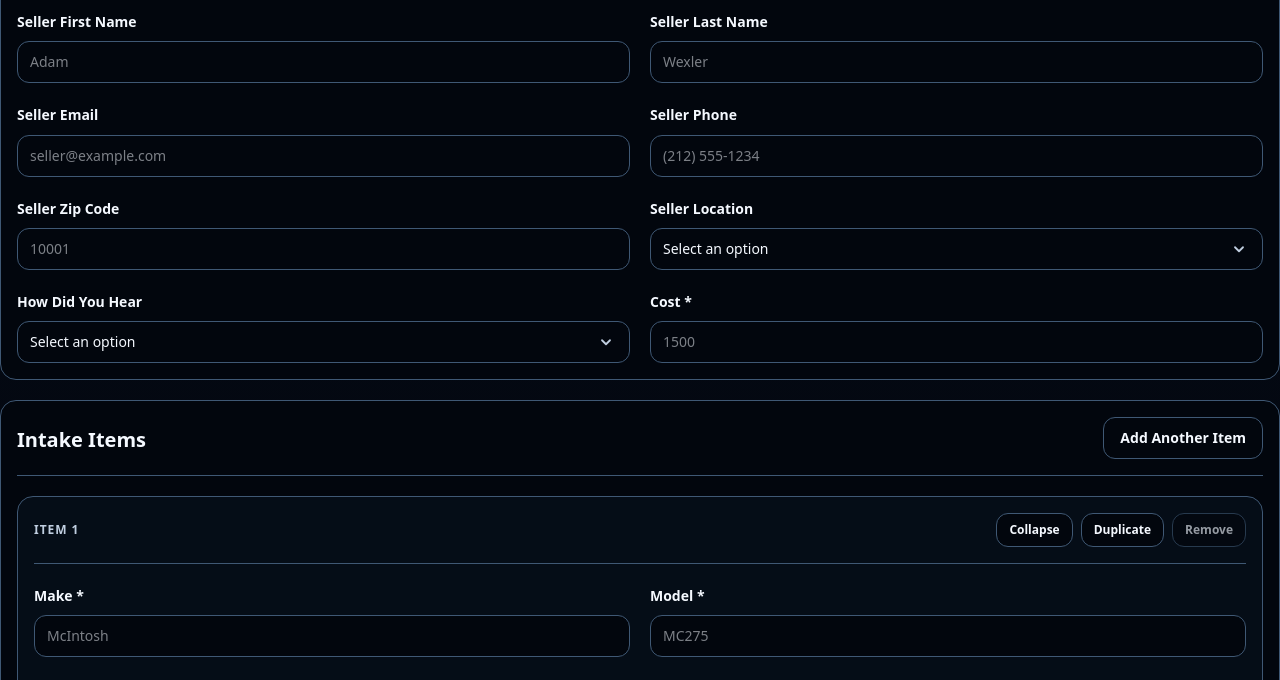
it: AirtableEmbeddedForm grouped intake › duplicates item fields into a new card
In the field labelled "Make *": [332, 636] box [34,615,630,657], type "Accuphase"
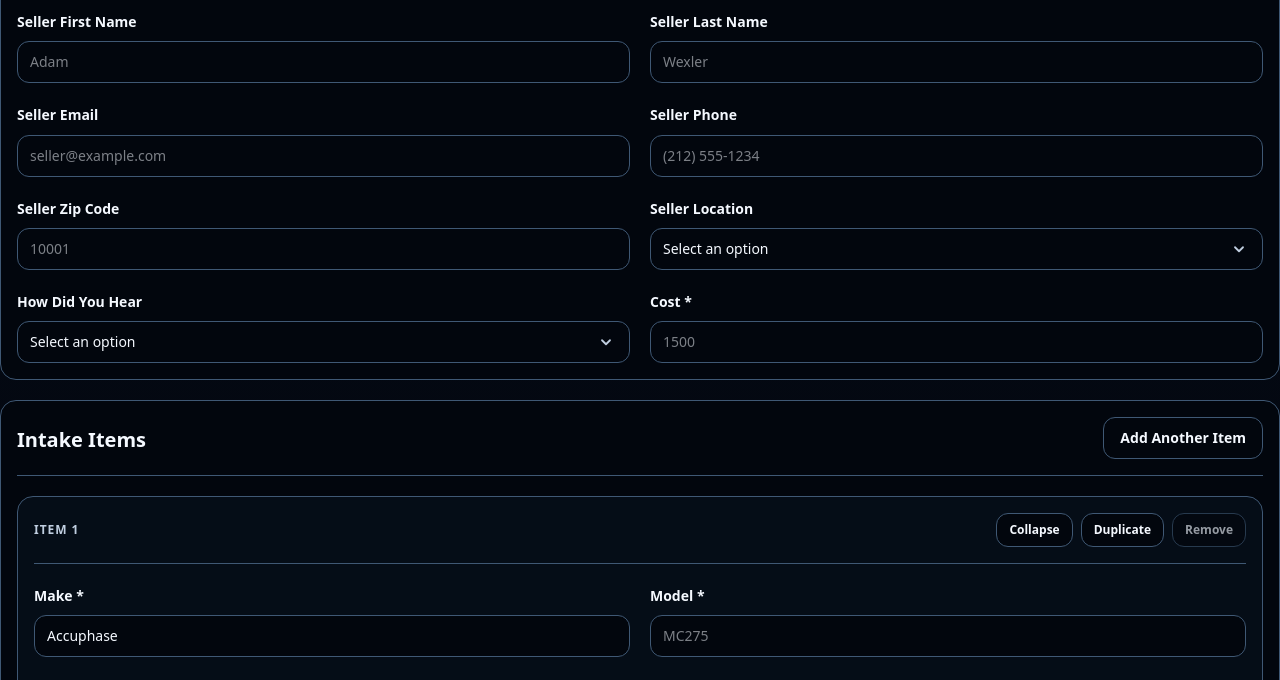
In the field labelled "Model *": [948, 636] box [650,615,1246,657], type "E-202"
(page scrolled)
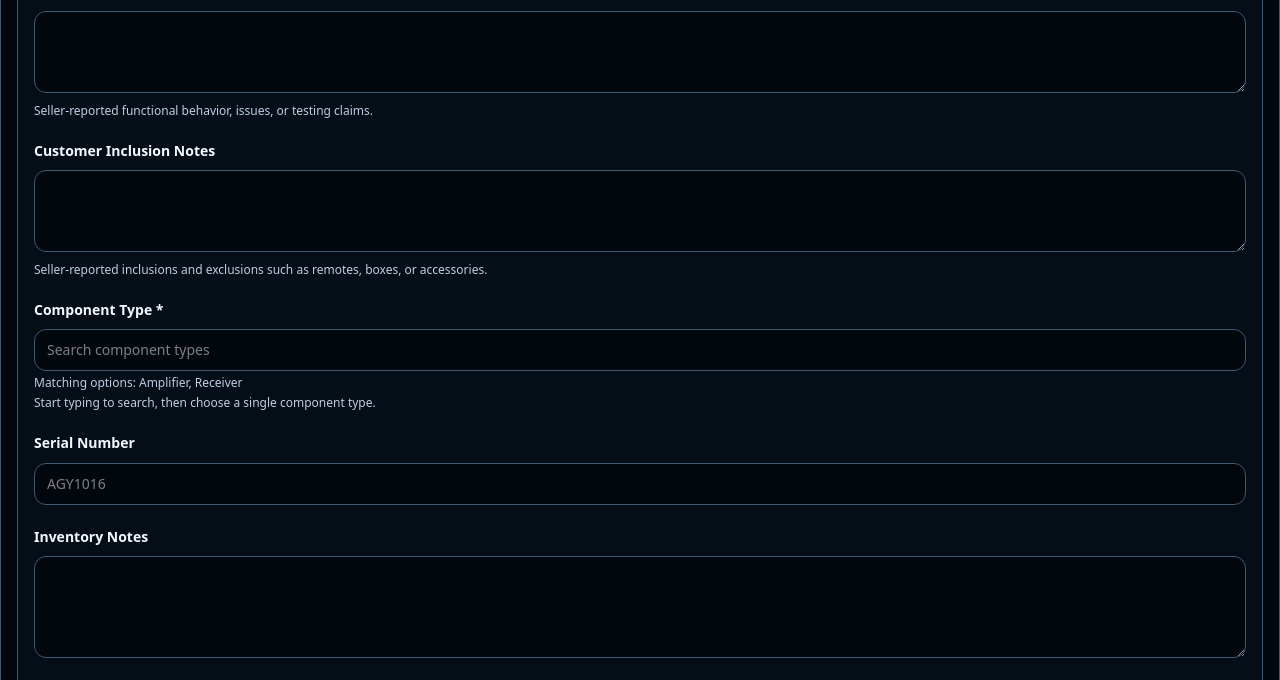
In the field with placeholder "Search component types": [640, 350] box [34,329,1246,371], type "Amplifier"
(page scrolled)
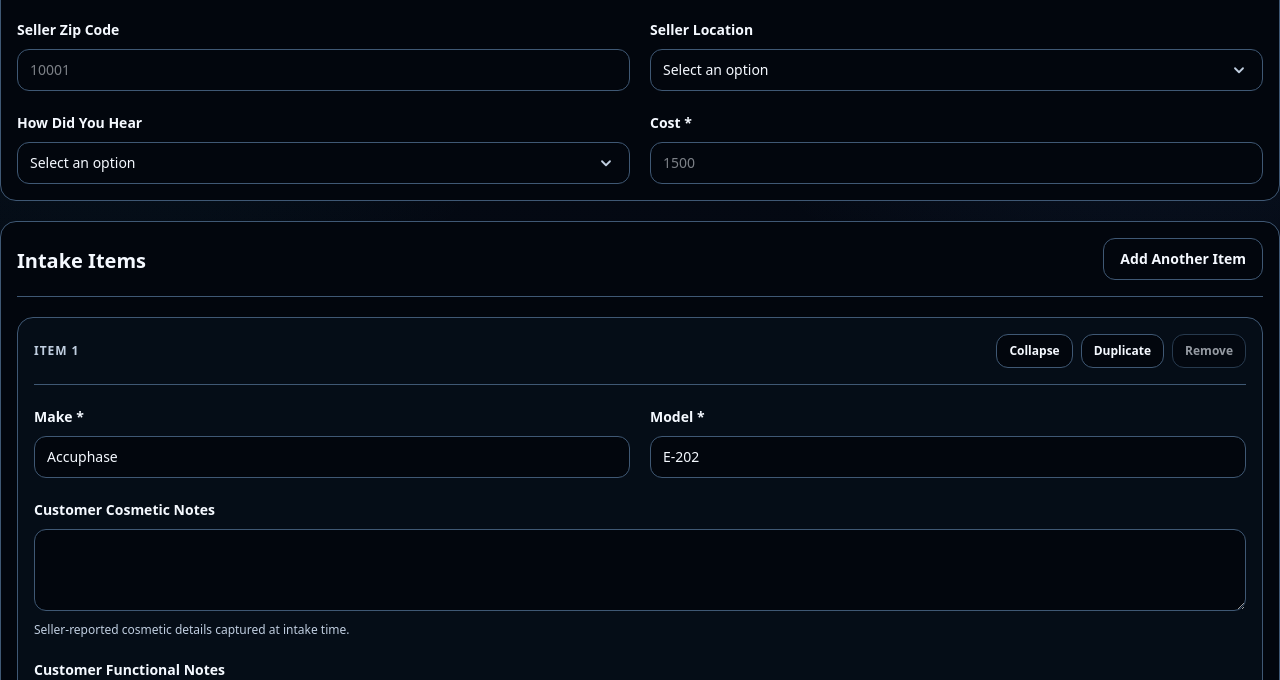
Click the button "Duplicate": [1122, 351] box [1081,334,1164,368]
(page scrolled)
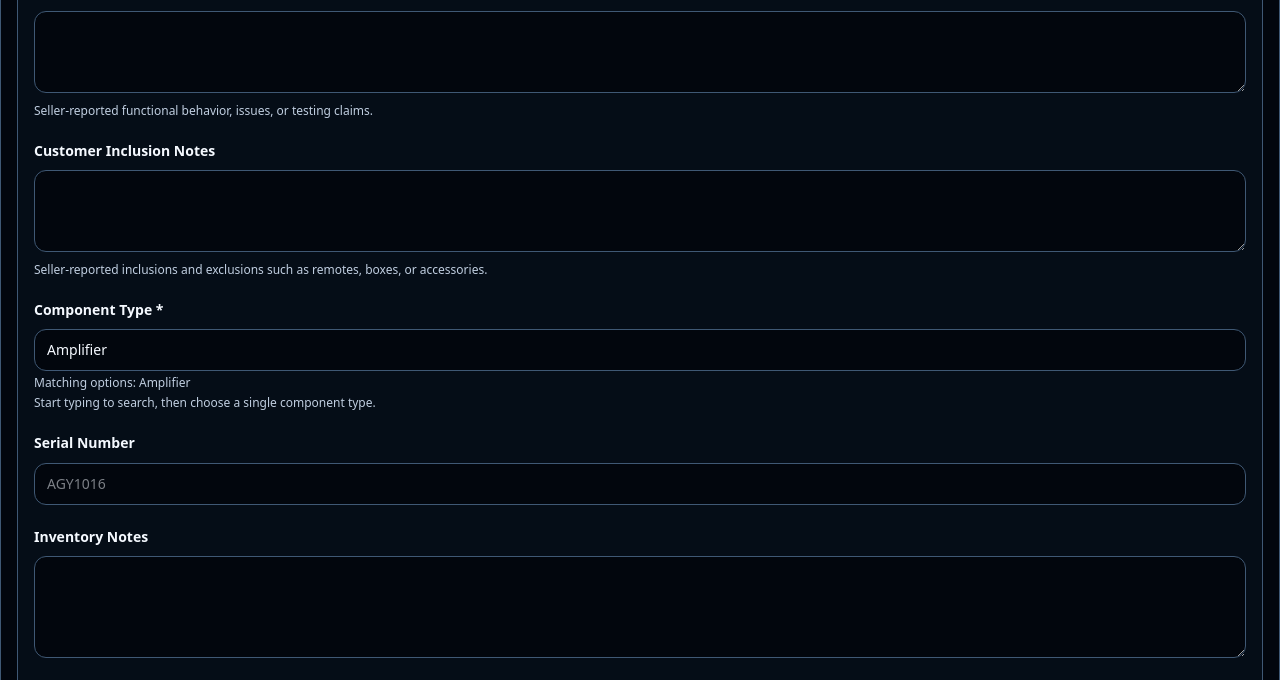
Expected: the field with placeholder "Search component types" holds "Amplifier", [34,329,1246,371]
